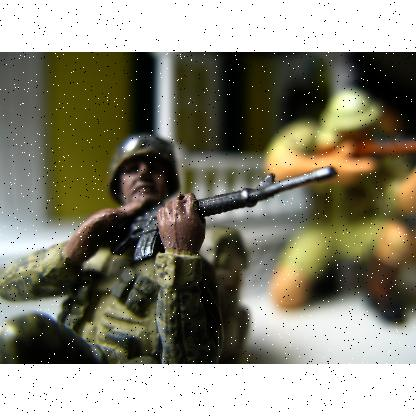gun: (109, 172, 335, 256)
